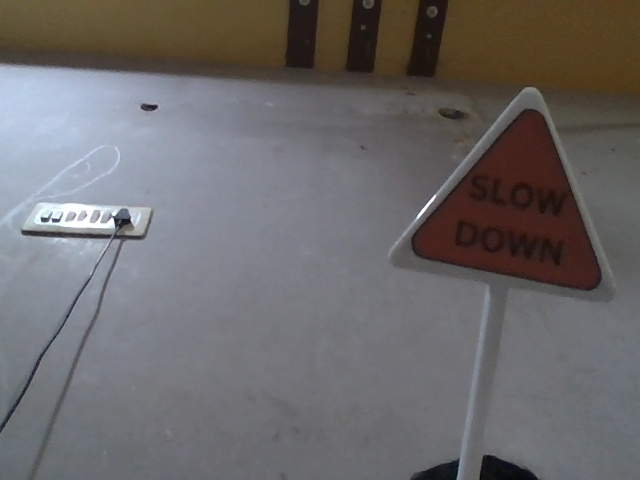slowdown: (391, 104, 612, 301)
